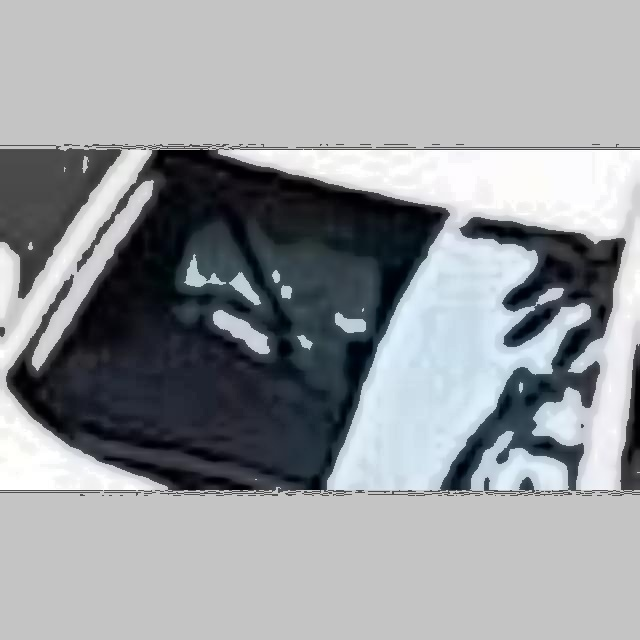pakai: (150, 184, 374, 416)
